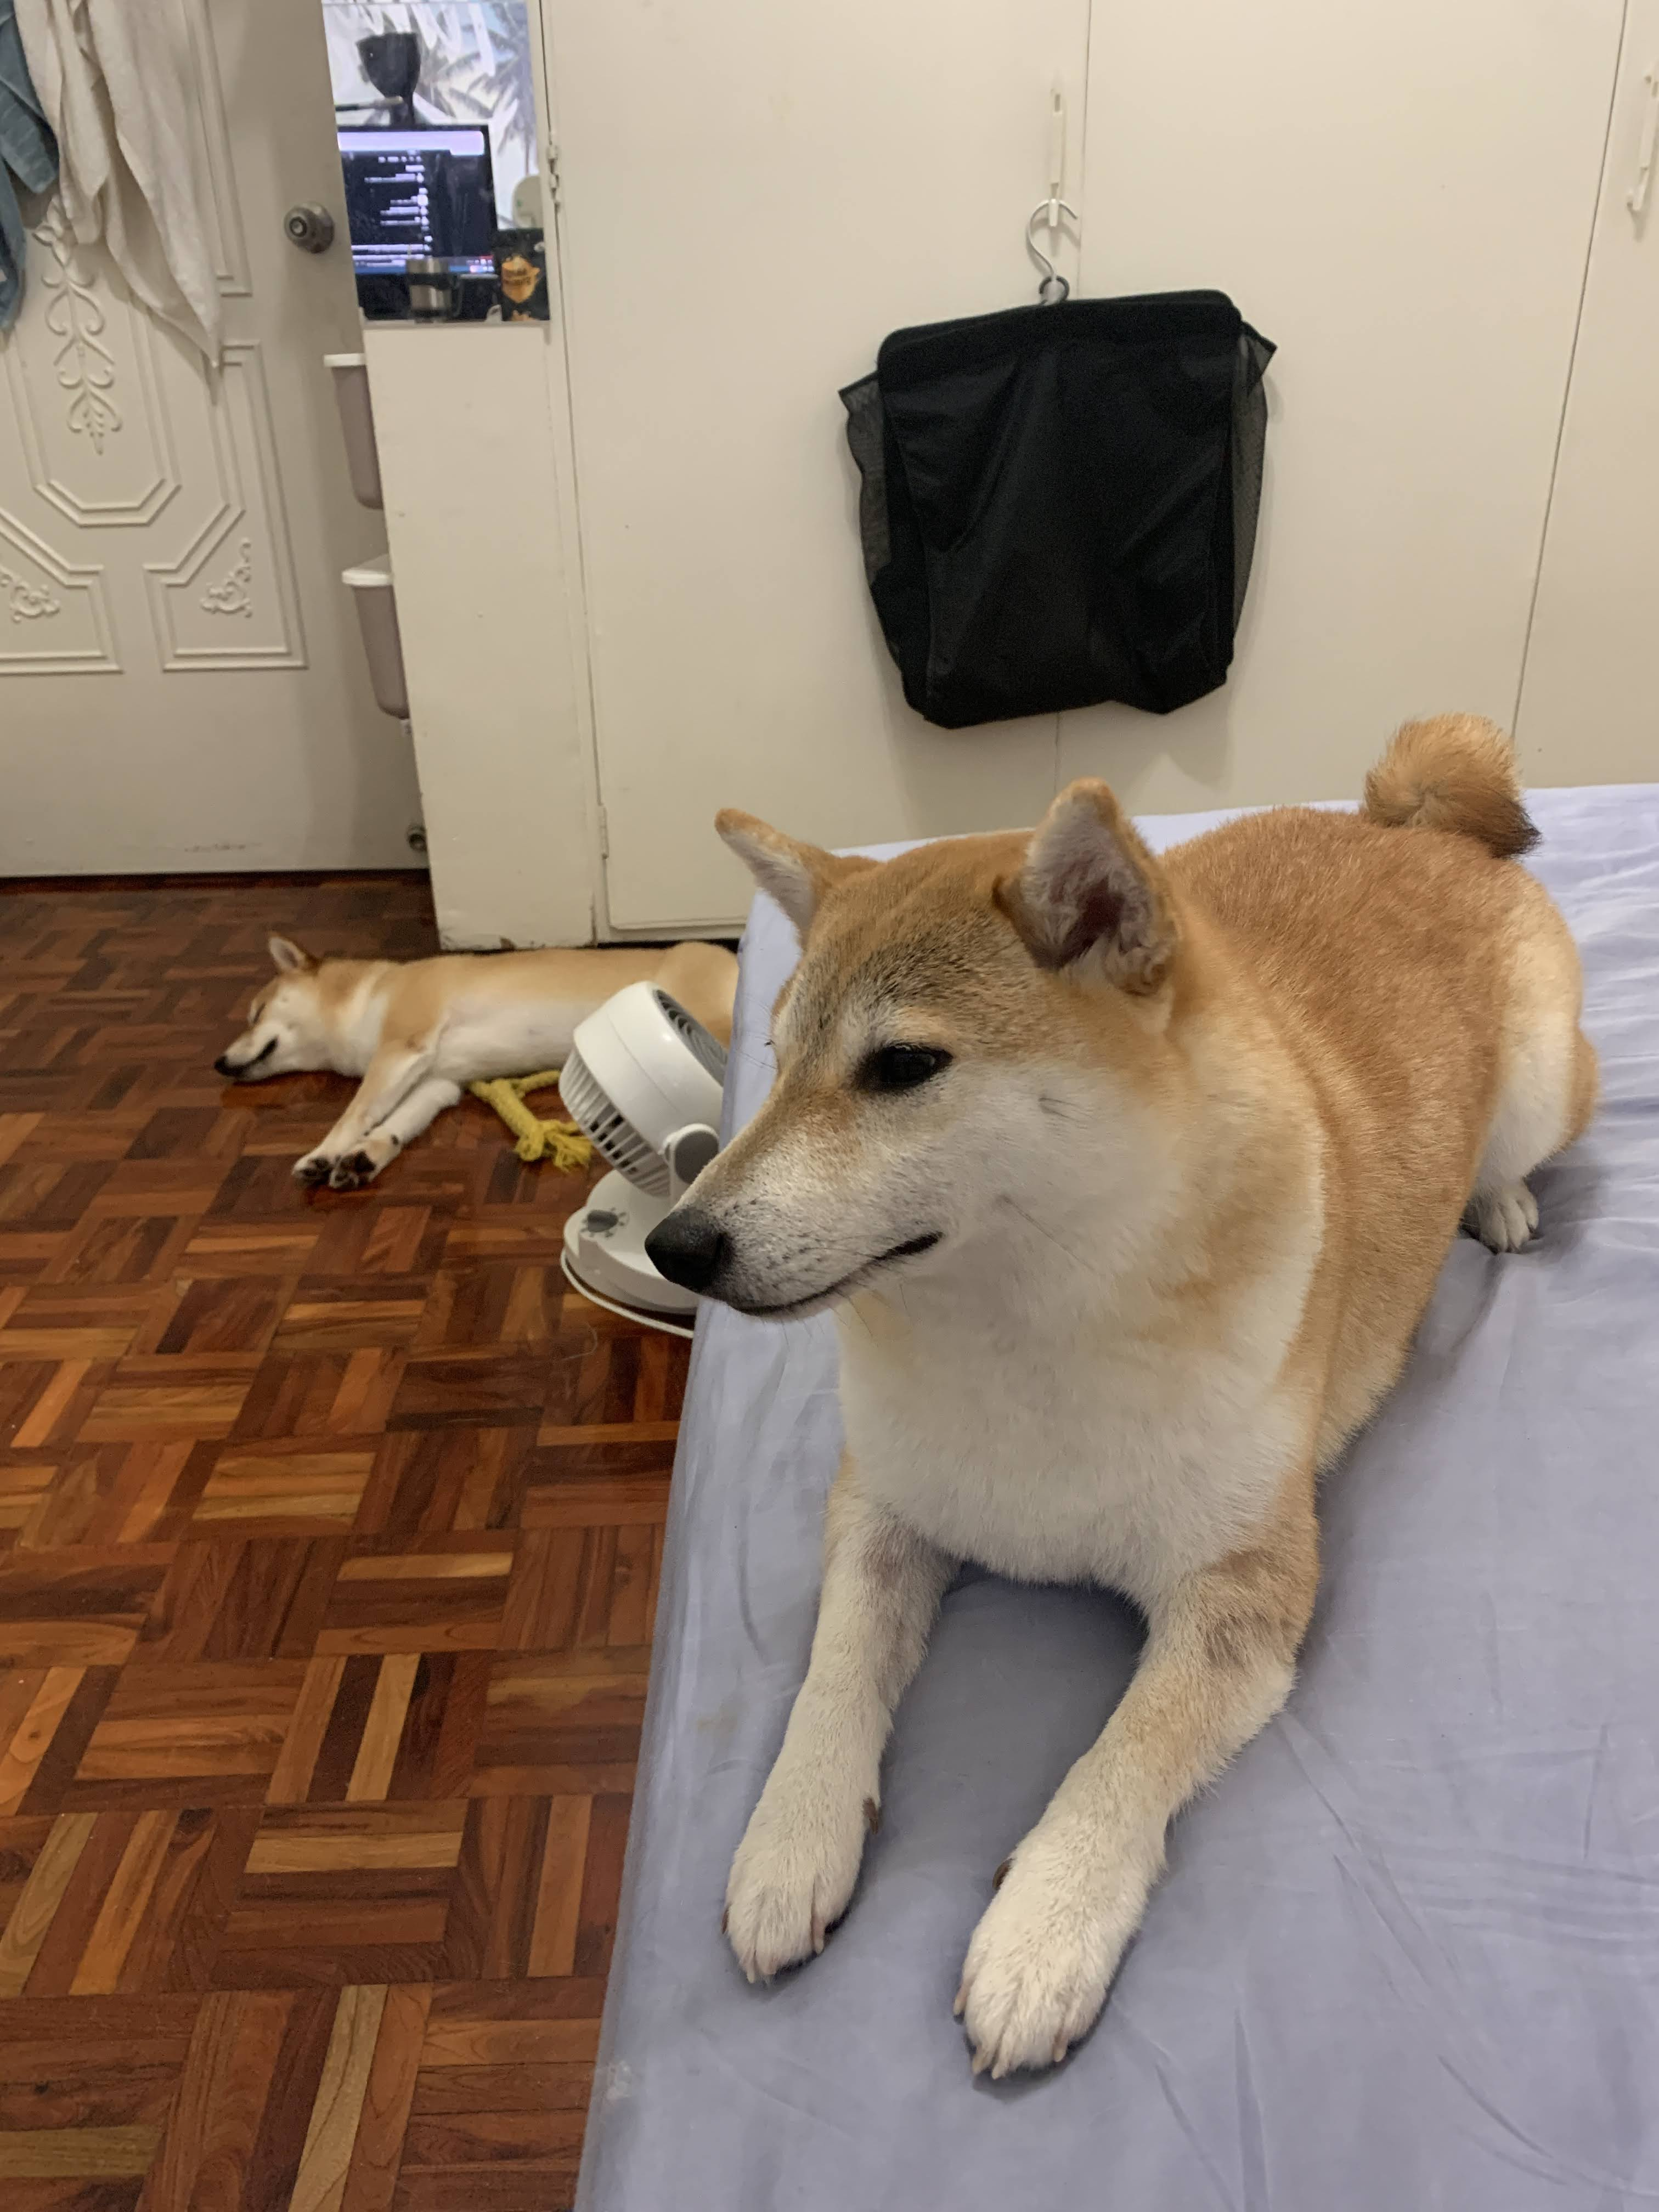Lie down: (716, 702, 1617, 2074), (213, 902, 746, 1209)
